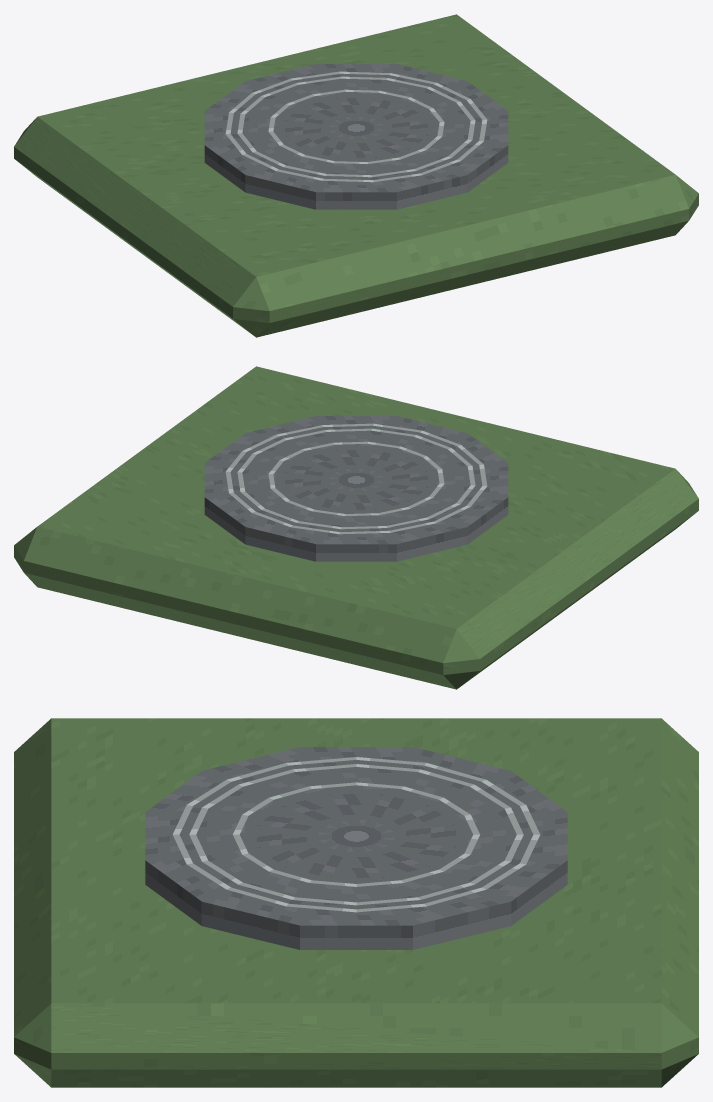
The model's file is hotplate.glb.
3 renders of one model, top to bottom at view 1: azimuth 30°, elevation 25°; view 2: azimuth 150°, elevation 25°; view 3: azimuth 270°, elevation 25°, orthographic. The views are drawn at different scales.
Visible parts, largest first — view 1: block_appliance housing, block_cast element; view 2: block_appliance housing, block_cast element; view 3: block_appliance housing, block_cast element.
Boxes of the visible parts, bbox=[...] form: block_appliance housing: bbox=[14, 14, 698, 337]; block_cast element: bbox=[204, 64, 508, 209]; block_appliance housing: bbox=[14, 366, 698, 689]; block_cast element: bbox=[204, 416, 508, 561]; block_appliance housing: bbox=[14, 718, 698, 1087]; block_cast element: bbox=[145, 747, 567, 949].
Size of the model in its own units: 0.35 by 0.057 by 0.3199.
1 material, 1 textured.
